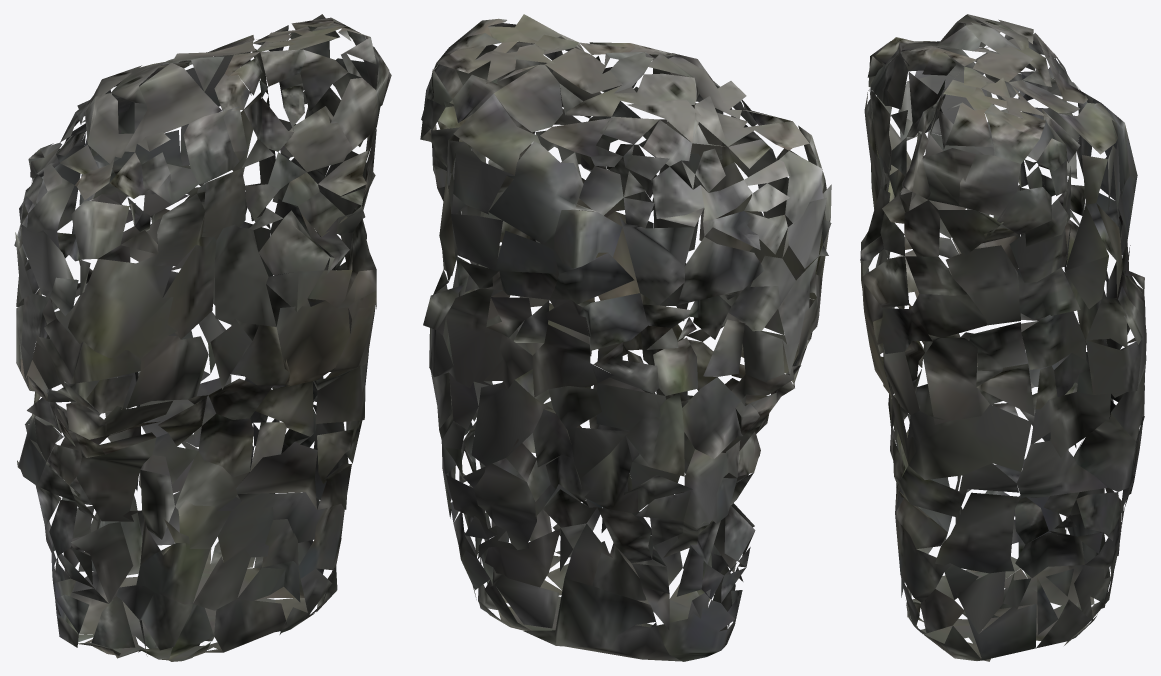
File: Stone_town.glb
3 renders of one model, left to right at view 1: azimuth 30°, elevation 25°; view 2: azimuth 150°, elevation 25°; view 3: azimuth 270°, elevation 25°, orthographic. The views are drawn at different scales.
Parts seen in each view (by area): view 1: Stone; view 2: Stone; view 3: Stone.
Boxes of the visible parts, x1,y1,x2,y2 form: Stone: (14, 14, 391, 661); Stone: (420, 14, 831, 661); Stone: (860, 14, 1146, 661).
Bounding box in the file's own units: 1.2 × 1.9 × 0.8199.
Materials: 1 (1 with a texture image).
